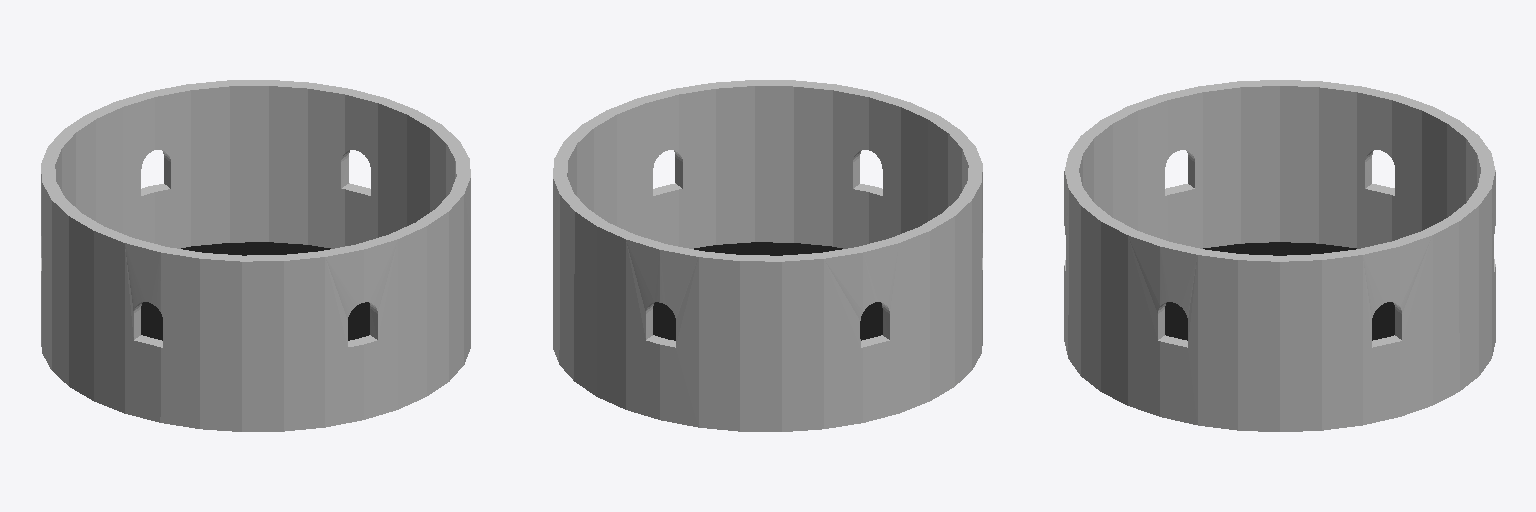
The model's file is komnata.obj.
3 views of the same model, side by side, from view 1: azimuth 30°, elevation 25°; view 2: azimuth 150°, elevation 25°; view 3: azimuth 270°, elevation 25° (orthographic).
Parts seen in each view (by area): view 1: Cylinder.064_Cylinder.087; view 2: Cylinder.064_Cylinder.087; view 3: Cylinder.064_Cylinder.087.
Part boxes in pixels (x1,y1,x2,y2): Cylinder.064_Cylinder.087: (41,80,470,431); Cylinder.064_Cylinder.087: (553,80,982,431); Cylinder.064_Cylinder.087: (1064,80,1495,431).
Bounding box in the file's own units: 75.1 × 32.72 × 75.14.